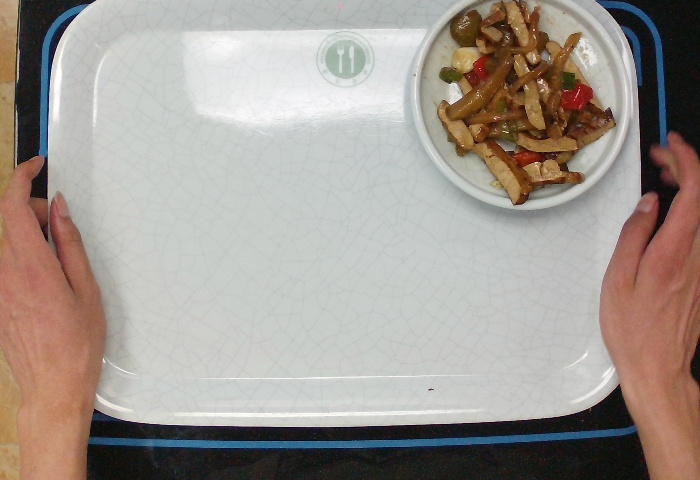JYsf-Xiao_Yuan_Pan: (407, 1, 635, 214)
